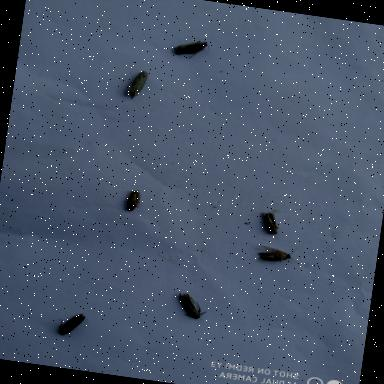pbw: (248, 238, 304, 273), (164, 29, 218, 64), (50, 307, 91, 346), (168, 285, 210, 323), (120, 64, 154, 104), (254, 206, 286, 240), (120, 184, 148, 216)
